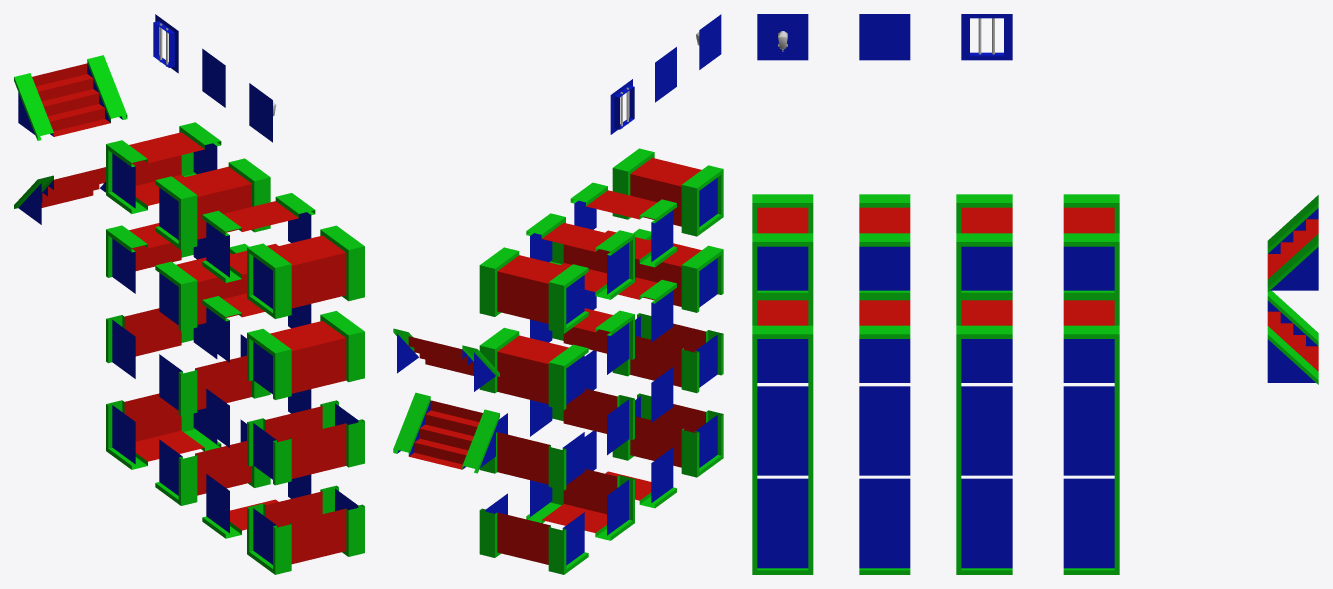
The model's file is TilesetCastle.fbx.
3 renders of one model, left to right at view 1: azimuth 30°, elevation 25°; view 2: azimuth 150°, elevation 25°; view 3: azimuth 270°, elevation 25°, orthographic. The views are drawn at different scales.
Visible parts, largest first — view 1: HoverBlock, CeilingBlock, FloorBlock, WallBlock, Staircase_L, HoverCorner_R, HoverCorner_L, CeilingCorner_R, HoverPiece, CeilingCorner_L, WallCorner_L, FloorCorner_L (+9 smaller); view 2: HoverCorner_R, FloorCorner_R, HoverBlock, Staircase_R, HoverCorner_L, CeilingBlock, CeilingCorner_L, WallBlock, CeilingCorner_R, HoverPiece, WallCorner_R, FloorBlock (+9 smaller); view 3: HoverBlock, CeilingBlock, HoverCorner_L, HoverCorner_R, WallBlock, CeilingCorner_L, CeilingCorner_R, HoverPiece, FloorBlock, WallCorner_R, WallCorner_L, CeilingPiece (+9 smaller).
Boxes of the visible parts, <box> form: HoverBlock: <box>247,225,364,318</box>; CeilingBlock: <box>247,485,364,574</box>; FloorBlock: <box>247,311,364,399</box>; WallBlock: <box>247,400,364,485</box>; Staircase_L: <box>14,55,127,140</box>; HoverCorner_R: <box>106,122,221,213</box>; HoverCorner_L: <box>155,158,270,250</box>; CeilingCorner_R: <box>106,393,221,469</box>; HoverPiece: <box>202,193,315,282</box>; CeilingCorner_L: <box>155,419,270,505</box>; WallCorner_L: <box>159,334,270,416</box>; FloorCorner_L: <box>155,243,248,331</box>; HoverCorner_R: <box>479,247,588,333</box>; FloorCorner_R: <box>479,327,588,409</box>; HoverBlock: <box>612,148,723,236</box>; Staircase_R: <box>393,392,499,473</box>; HoverCorner_L: <box>526,213,634,299</box>; CeilingBlock: <box>612,393,723,477</box>; CeilingCorner_L: <box>526,469,634,540</box>; WallBlock: <box>612,313,723,393</box>; CeilingCorner_R: <box>479,493,588,574</box>; HoverPiece: <box>570,182,676,267</box>; WallCorner_R: <box>479,413,584,490</box>; FloorBlock: <box>633,228,723,312</box>; HoverBlock: <box>752,194,813,297</box>; CeilingBlock: <box>752,478,813,574</box>; HoverCorner_L: <box>956,194,1012,297</box>; HoverCorner_R: <box>1063,194,1119,297</box>; WallBlock: <box>752,385,813,477</box>; CeilingCorner_L: <box>956,478,1012,574</box>; CeilingCorner_R: <box>1063,478,1119,574</box>; HoverPiece: <box>859,194,910,297</box>; FloorBlock: <box>752,297,813,385</box>; WallCorner_R: <box>1063,385,1119,477</box>; WallCorner_L: <box>956,385,1012,477</box>; CeilingPiece: <box>859,478,910,574</box>.
Bounding box in the file's own units: 234 × 1110 × 1110.
